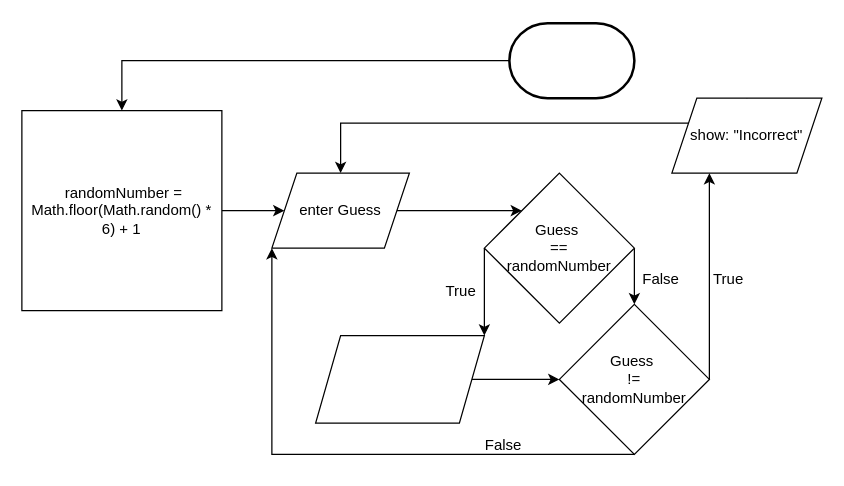
Image size: 844x486. Some labels were removed from this diagram. Each missing label, with the centre of its shape:
show: "Correct": [399,378]
Start: [571,60]
